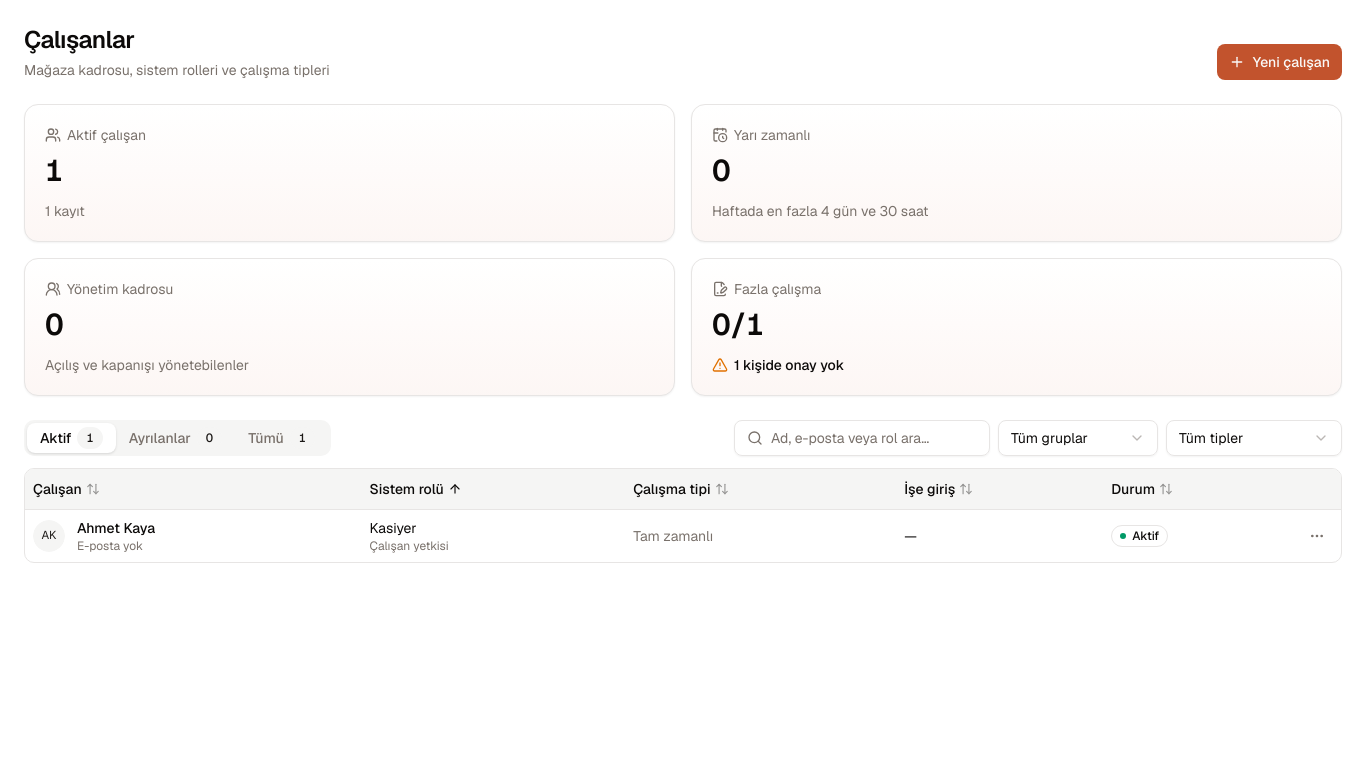
it: EmployeesPage — düzenleme › 4. Satır menüsünden Düzenle seçilince dialog açılır ve mevcut data gelir
Expected: the text "Ahmet Kaya" is shown, [77, 518, 155, 538]
Click the button named "ahmet kaya işlemleri": (1317,536) [1301, 520, 1333, 552]
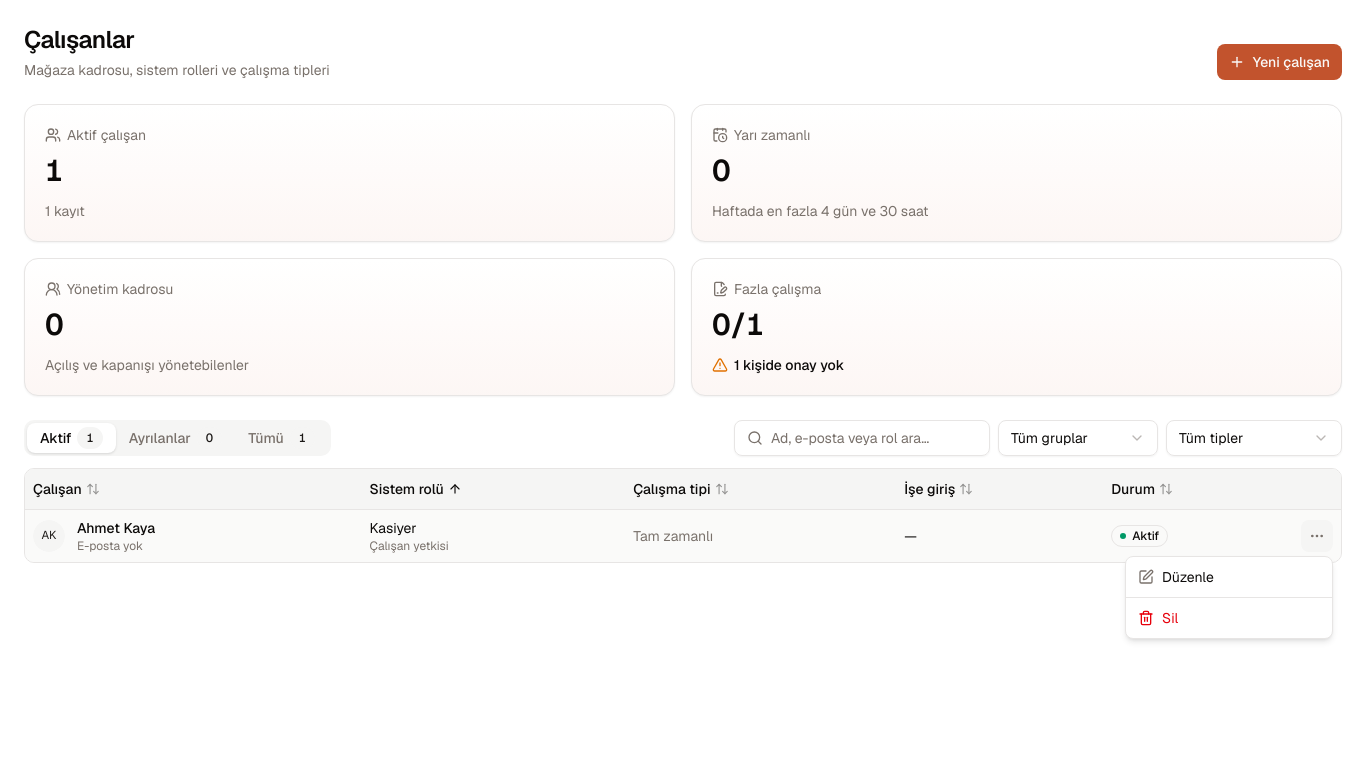
Click the menu item "Düzenle": (1176,577) [1138, 568, 1214, 586]
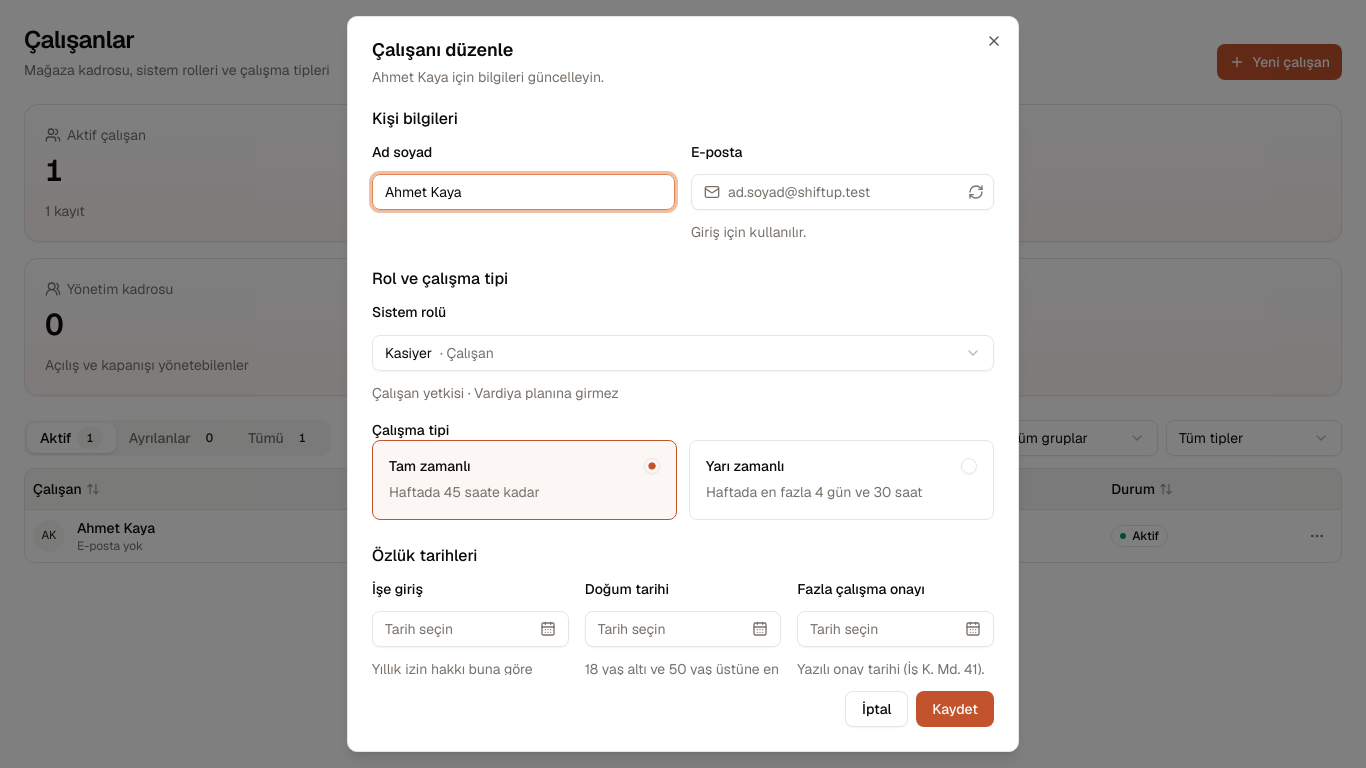
Expected: the heading "Çalışanı düzenle" is shown, [372, 38, 513, 61]
Expected: the field showing "Ahmet Kaya" is shown, [372, 174, 675, 210]
